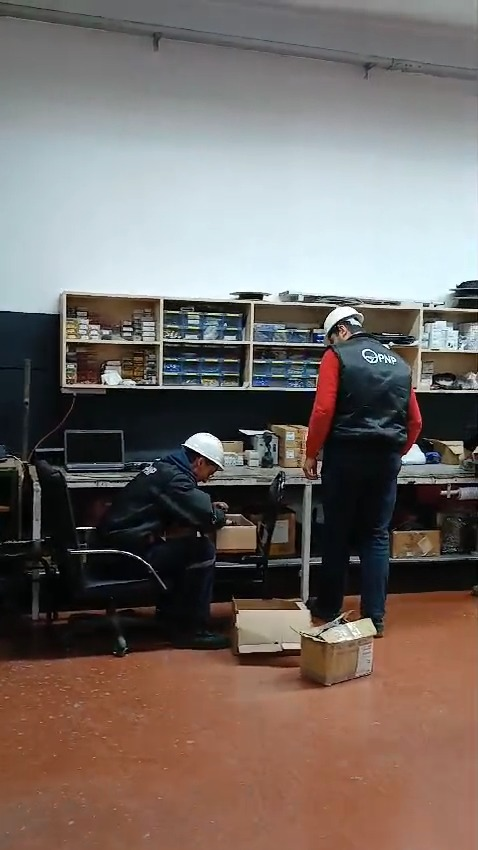safety_helmet: (181, 432, 226, 471), (323, 305, 365, 340)
